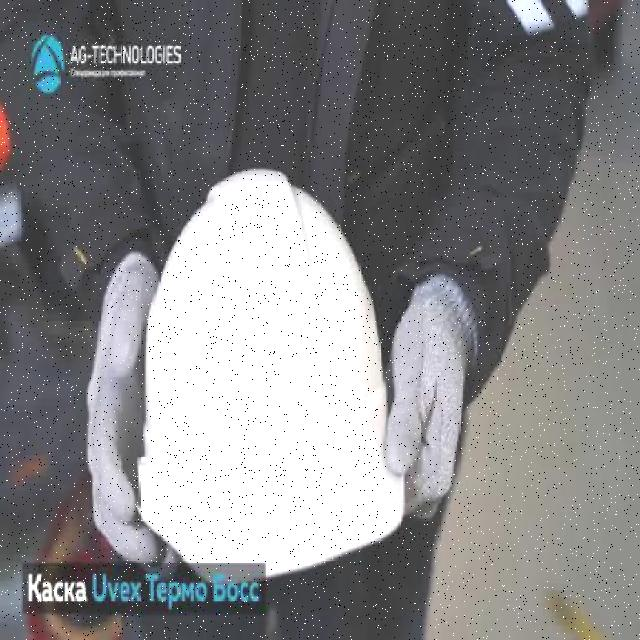Gloves: (84, 252, 184, 586), (388, 273, 477, 522)
Helmet: (133, 165, 409, 590)
